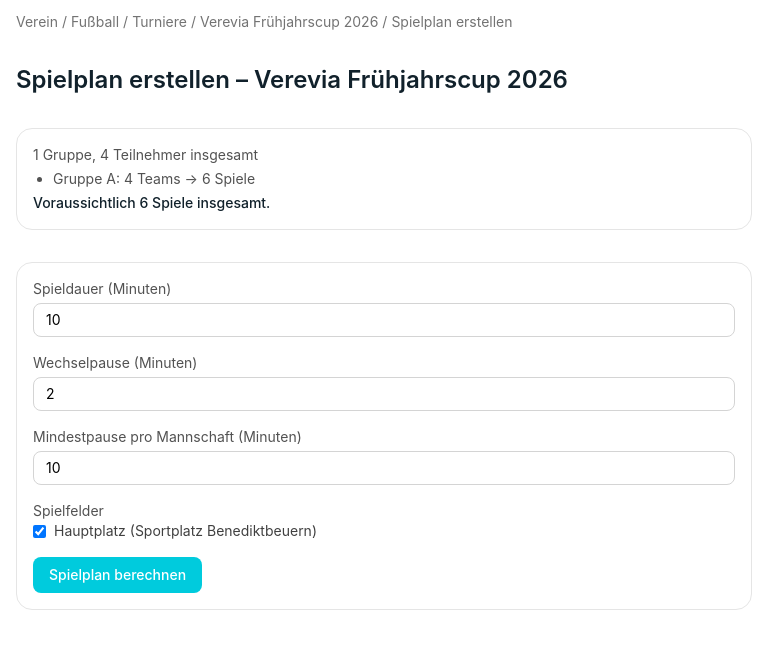
TournamentScheduleGenerator › shows an error message when the preview request itself fails
Click the button "Spielplan berechnen". click: (118, 575)
box: left=33, top=557, right=202, bottom=593
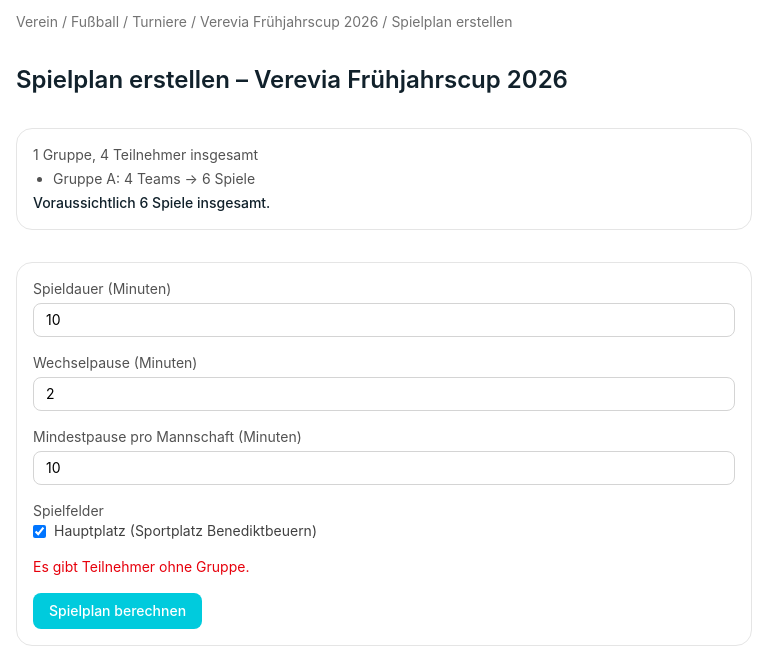
Check: the text "Es gibt Teilnehmer ohne Gruppe." is shown, box left=33, top=558, right=249, bottom=575
